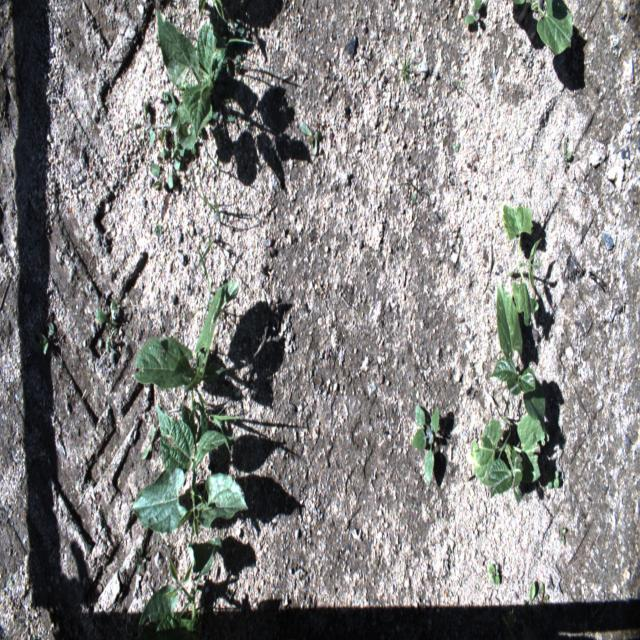crop: (133, 281, 239, 447), (157, 10, 255, 140), (138, 537, 223, 638), (130, 466, 249, 537), (488, 282, 546, 421), (469, 413, 550, 503), (156, 400, 236, 479), (500, 204, 542, 329), (511, 0, 574, 57), (198, 0, 227, 24)
weed: (143, 91, 199, 155), (195, 388, 242, 454), (186, 228, 216, 312), (410, 404, 440, 486), (149, 127, 185, 188), (192, 160, 222, 225), (392, 46, 428, 91), (94, 300, 120, 357), (192, 232, 222, 274), (498, 387, 511, 460), (299, 120, 322, 155), (142, 426, 156, 460), (464, 0, 482, 25), (42, 322, 54, 356), (523, 582, 535, 614), (135, 544, 147, 572), (538, 581, 548, 610), (489, 562, 500, 586), (546, 468, 558, 488), (565, 150, 572, 169), (155, 223, 162, 237), (453, 142, 461, 154), (560, 528, 566, 543)
